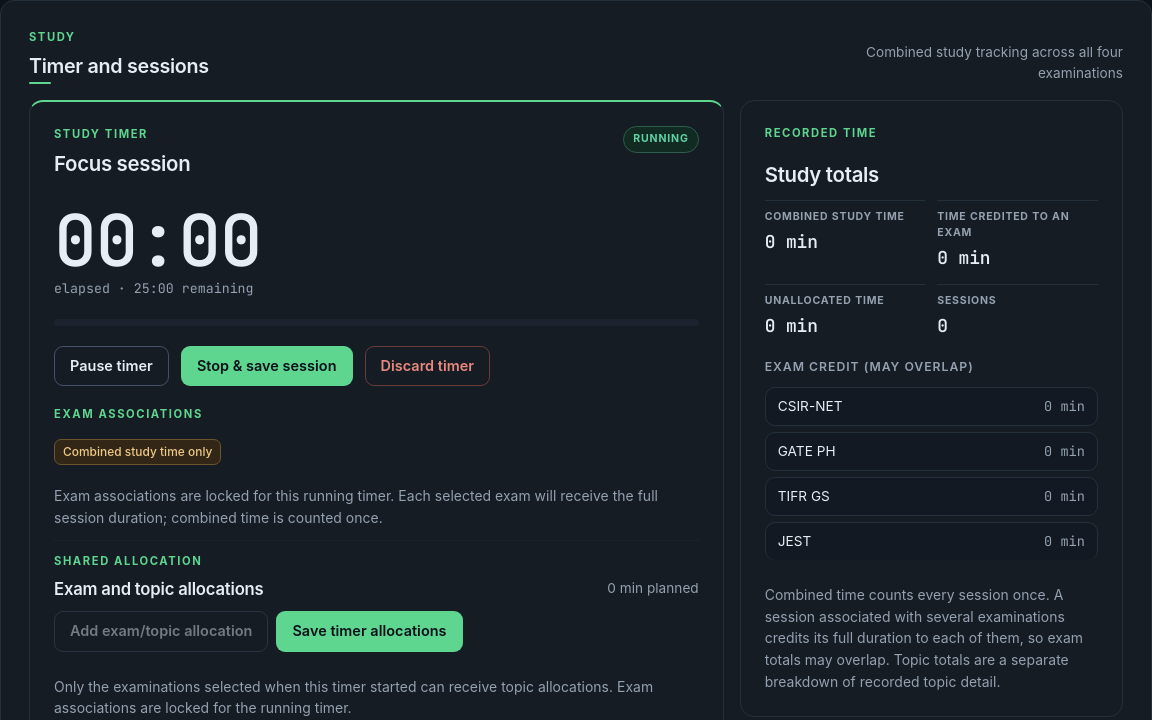
V2 study timer and sessions › shows a completion-aware message when pause loses to heartbeat completion
Expected: the heading "Timer and sessions" is shown, [29, 54, 209, 84]
Expected: the element showing "00:00 elapsed · 25:00 remaining" is shown, [54, 193, 261, 297]
Step 1. Click the button "Pause timer" → (111, 366), box [54, 346, 169, 386]
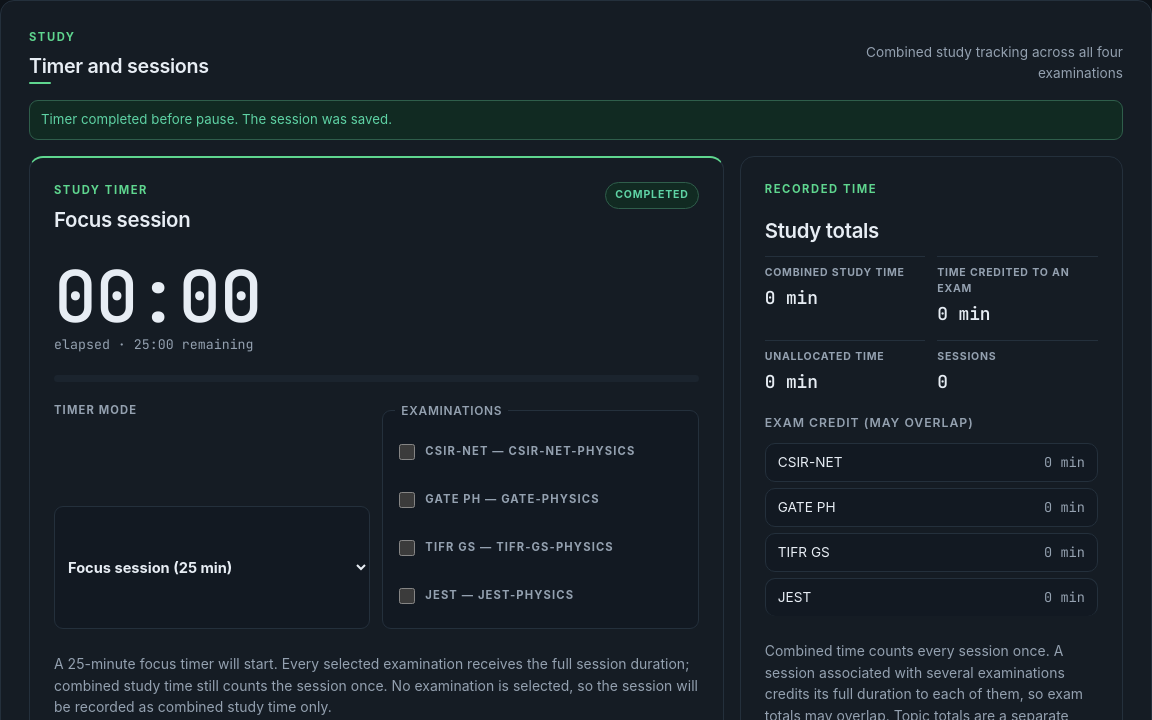
Expected: the text "Timer completed before pause. The session was saved." is shown, [29, 100, 1123, 140]
